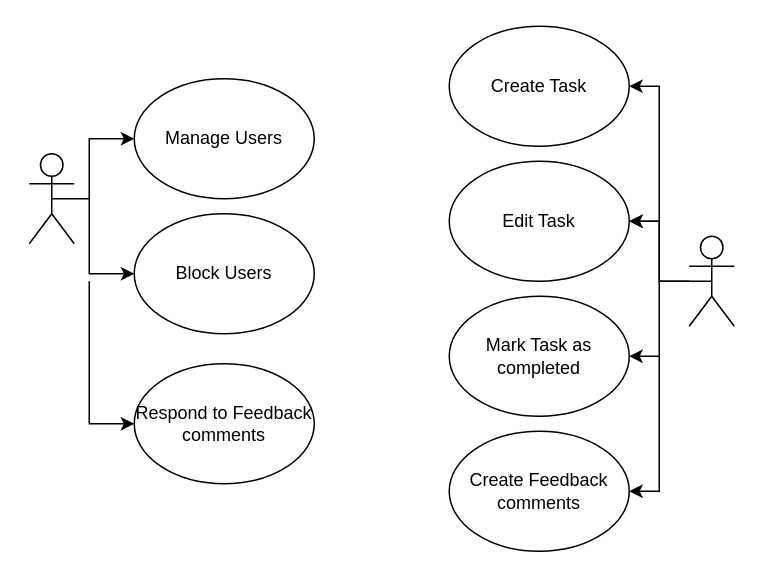
This 761x578 diagram has some shape labels left out. The centre of each missing label's shape, as x and y in pixels:
"Admin" goes at (51,198).
"User" goes at (711,280).
